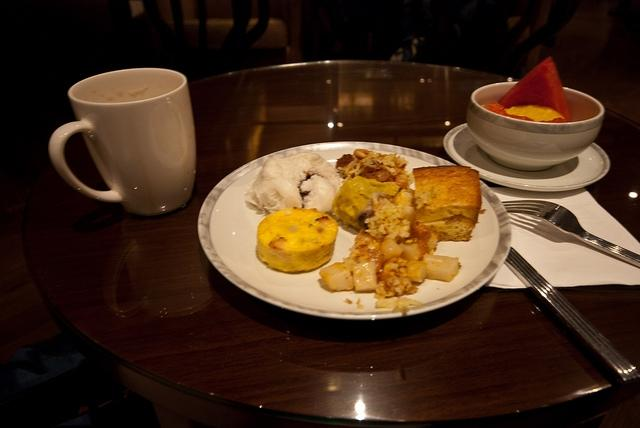watermelon: (498, 56, 572, 122), (482, 101, 504, 113)
